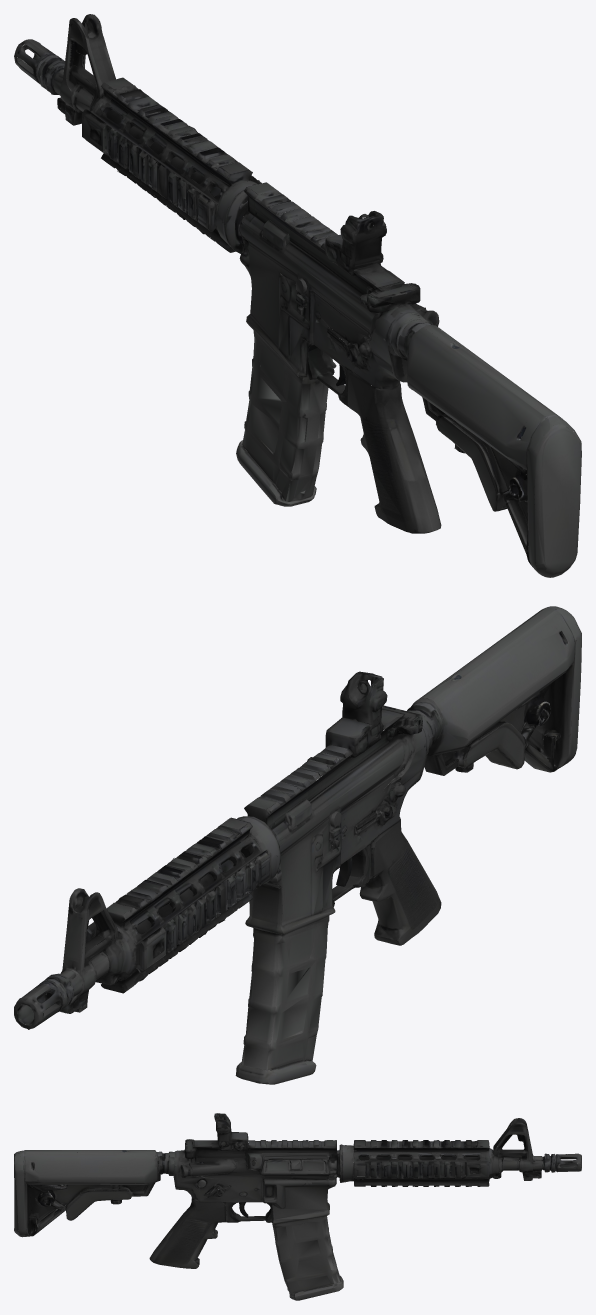
File: weapon_m4_new.glb
The picture shows the model from 3 angles, top to bottom: view 1: azimuth 30°, elevation 25°; view 2: azimuth 150°, elevation 25°; view 3: azimuth 270°, elevation 25°; orthographic projection. The views are drawn at different scales.
Visible parts, largest first — view 1: M4, Magazine; view 2: M4, Magazine; view 3: M4, Magazine, Bolt.
Part boxes in pixels (x1,y1,x2,y2): M4: (14,14,581,577); Magazine: (251,316,415,524); M4: (14,606,581,1084); Magazine: (282,822,433,1074); M4: (14,1113,581,1300); Magazine: (176,1202,325,1300); Bolt: (190,1140,315,1176).
Size of the model in its own units: 0.068 by 0.311 by 0.886.
1 material, 1 textured.
